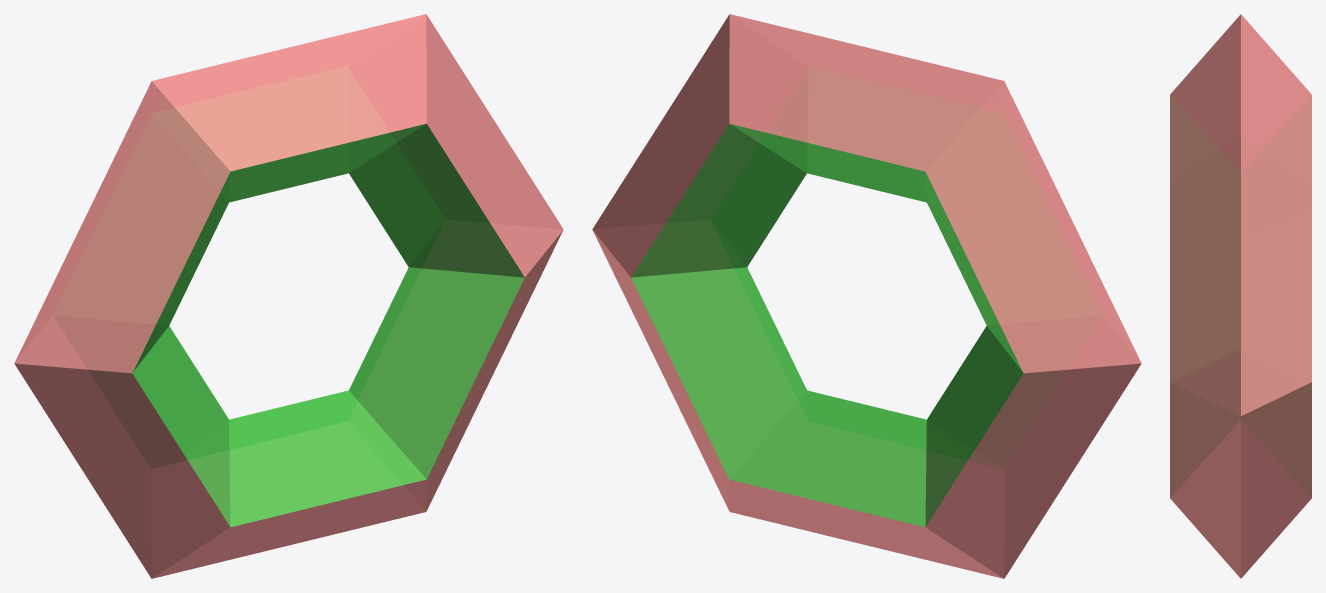
File: Regular6TetragonalToroid.obj
3 views of the same model, side by side, from view 1: azimuth 30°, elevation 25°; view 2: azimuth 150°, elevation 25°; view 3: azimuth 270°, elevation 25° (orthographic). The views are drawn at different scales.
Bounding box in the file's own units: 2.8 × 2.42 × 0.7.
